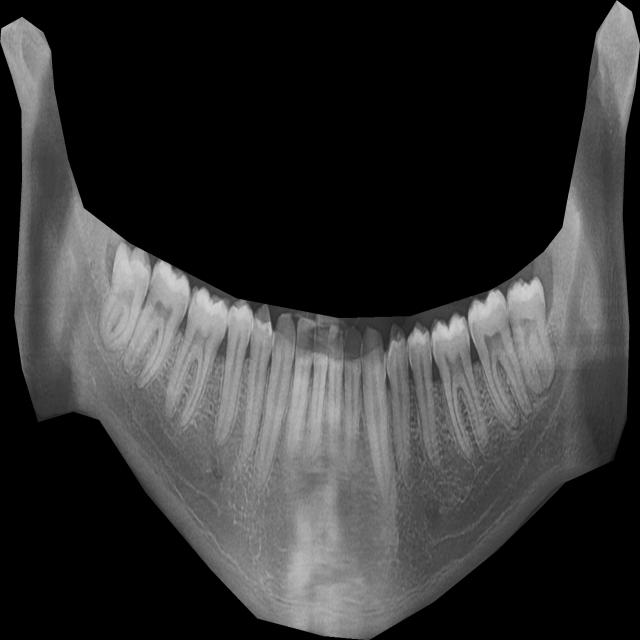mandibula: (0, 0, 640, 640)
